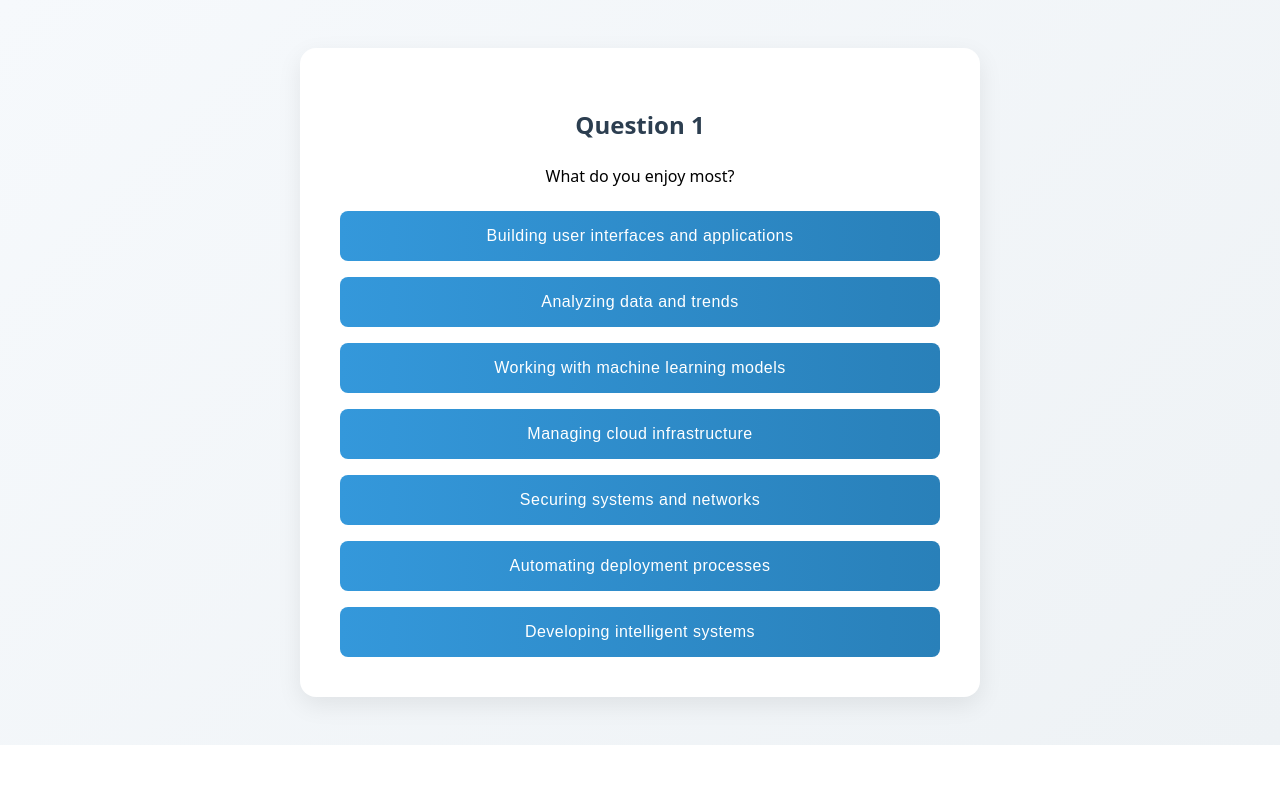
Quiz Component › progresses through questions
The width and height of the screenshot is (1280, 800).
Step 1. Click the button "Building user interfaces and applications" → (640, 236), box [340, 211, 940, 261]
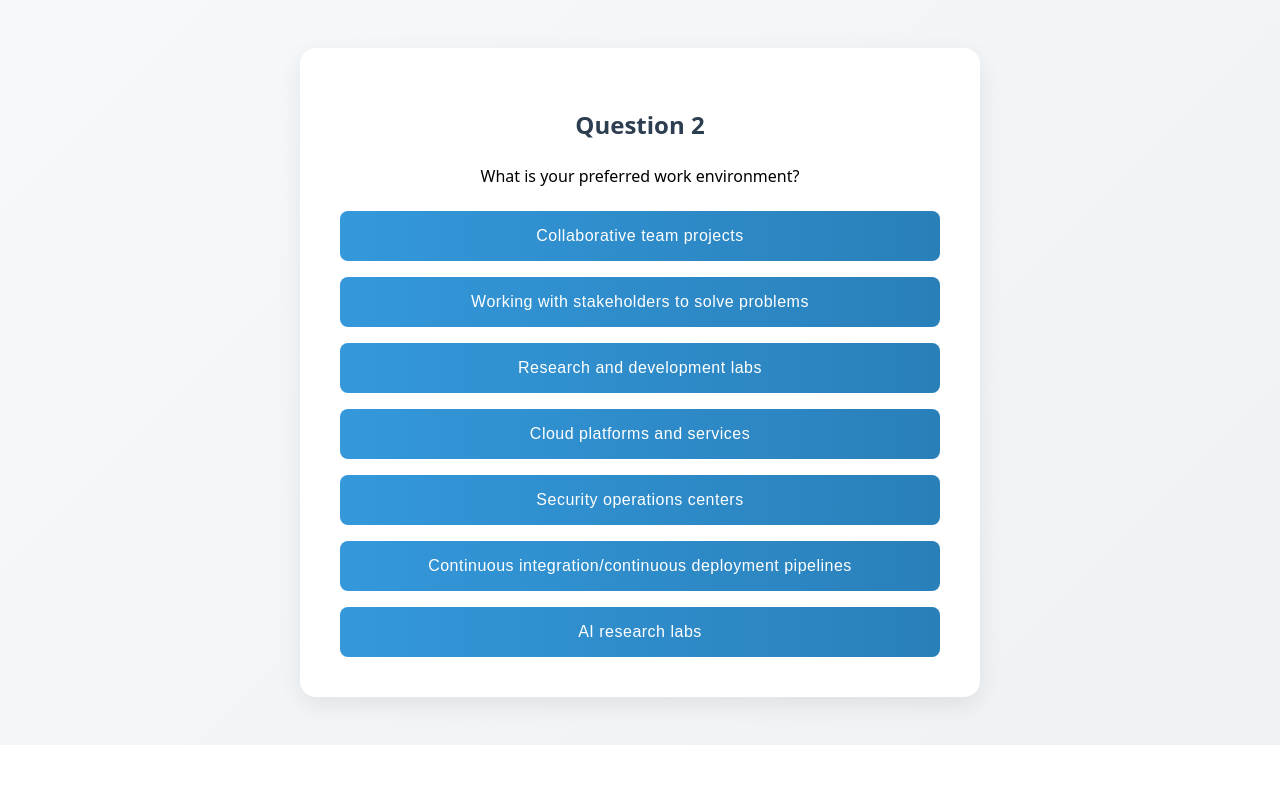
expect the heading "Question 2" is shown: met, box [575, 108, 705, 141]
